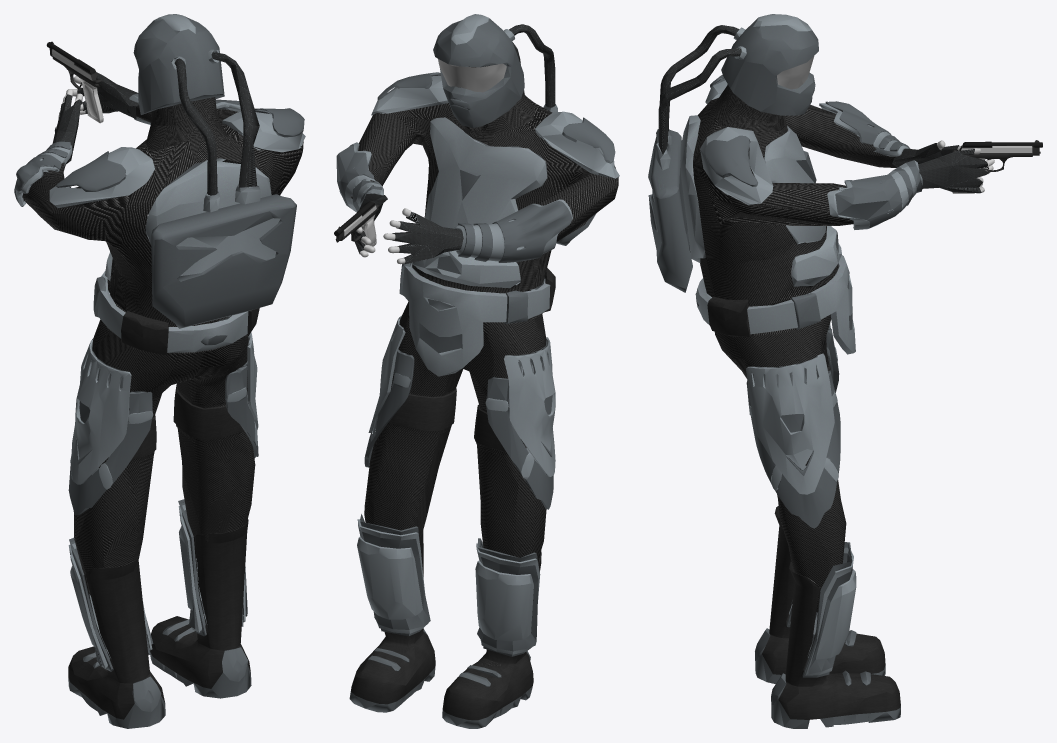
Rendered from AndarPistola.0017.obj.
3 views of the same model, side by side, from view 1: azimuth 30°, elevation 25°; view 2: azimuth 150°, elevation 25°; view 3: azimuth 270°, elevation 25° (orthographic). The views are drawn at different scales.
Visible parts, largest first — view 1: personajeskefix:personaje:extrudedSurface2 polySurface152, personajeskefix:personaje:bota1 polySurface152, personajeskefix:personaje:PANTALON polySurface152, personajeskefix:personaje:CAMISETABUENA polySurface152, personajeskefix:personaje:pPipe4 polySurface152, personajeskefix:personaje:pCube4 polySurface152, personajeskefix:personaje:cosoarmdaurapierna1 polySurface152, personajeskefix:personaje:cinturon polySurface152, personajeskefix:personaje:polySurface6 polySurface152, personajeskefix:personaje:armadbota1 polySurface152, personajeskefix:personaje:HOMBRO2 polySurface152, pistola:Cylinder001 polySurface152 (+6 smaller); view 2: personajeskefix:personaje:pPipe4 polySurface152, personajeskefix:personaje:PANTALON polySurface152, personajeskefix:personaje:CAMISETABUENA polySurface152, personajeskefix:personaje:bota1 polySurface152, personajeskefix:personaje:armadbota1 polySurface152, personajeskefix:personaje:cinturon polySurface152, personajeskefix:personaje:pCube4 polySurface152, personajeskefix:personaje:extrudedSurface2 polySurface152, personajeskefix:personaje:cosoarmdaurapierna1 polySurface152, personajeskefix:personaje:polySurface2 polySurface152, personajeskefix:personaje:polySurface6 polySurface152, personajeskefix:personaje:cosoarmadurapierna2 polySurface152 (+8 smaller); view 3: personajeskefix:personaje:CAMISETABUENA polySurface152, personajeskefix:personaje:pPipe4 polySurface152, personajeskefix:personaje:bota1 polySurface152, personajeskefix:personaje:extrudedSurface2 polySurface152, personajeskefix:personaje:pCube4 polySurface152, personajeskefix:personaje:PANTALON polySurface152, personajeskefix:personaje:cinturon polySurface152, personajeskefix:personaje:cosoarmadurapierna2 polySurface152, personajeskefix:personaje:armadbota1 polySurface152, personajeskefix:personaje:hombro1 polySurface152, pistola:Cylinder001 polySurface152, personajeskefix:personaje:polySurface2 polySurface152 (+4 smaller).
Part boxes in pixels (x1,y1,x2,y2): personajeskefix:personaje:extrudedSurface2 polySurface152: [133, 14, 296, 328]; personajeskefix:personaje:bota1 polySurface152: [68, 519, 251, 728]; personajeskefix:personaje:PANTALON polySurface152: [73, 294, 255, 595]; personajeskefix:personaje:CAMISETABUENA polySurface152: [22, 97, 303, 353]; personajeskefix:personaje:pPipe4 polySurface152: [43, 72, 305, 279]; personajeskefix:personaje:pCube4 polySurface152: [68, 316, 258, 671]; personajeskefix:personaje:cosoarmdaurapierna1 polySurface152: [70, 338, 153, 489]; personajeskefix:personaje:cinturon polySurface152: [93, 270, 259, 355]; personajeskefix:personaje:polySurface6 polySurface152: [131, 385, 244, 460]; personajeskefix:personaje:armadbota1 polySurface152: [68, 504, 245, 668]; personajeskefix:personaje:HOMBRO2 polySurface152: [56, 151, 125, 191]; pistola:Cylinder001 polySurface152: [46, 41, 103, 123]; personajeskefix:personaje:pPipe4 polySurface152: [336, 75, 619, 288]; personajeskefix:personaje:PANTALON polySurface152: [364, 278, 546, 559]; personajeskefix:personaje:CAMISETABUENA polySurface152: [351, 66, 618, 321]; personajeskefix:personaje:bota1 polySurface152: [349, 531, 541, 728]; personajeskefix:personaje:armadbota1 polySurface152: [357, 519, 540, 654]; personajeskefix:personaje:cinturon polySurface152: [399, 263, 555, 376]; personajeskefix:personaje:pCube4 polySurface152: [358, 315, 553, 656]; personajeskefix:personaje:extrudedSurface2 polySurface152: [433, 14, 596, 245]; personajeskefix:personaje:cosoarmdaurapierna1 polySurface152: [485, 337, 555, 479]; personajeskefix:personaje:polySurface2 polySurface152: [458, 201, 571, 262]; personajeskefix:personaje:polySurface6 polySurface152: [388, 388, 506, 452]; personajeskefix:personaje:cosoarmadurapierna2 polySurface152: [364, 349, 414, 467]; personajeskefix:personaje:CAMISETABUENA polySurface152: [693, 84, 901, 335]; personajeskefix:personaje:pPipe4 polySurface152: [680, 78, 989, 286]; personajeskefix:personaje:bota1 polySurface152: [755, 506, 900, 728]; personajeskefix:personaje:extrudedSurface2 polySurface152: [648, 14, 818, 292]; personajeskefix:personaje:pCube4 polySurface152: [746, 326, 852, 677]; personajeskefix:personaje:PANTALON polySurface152: [714, 277, 846, 612]; personajeskefix:personaje:cinturon polySurface152: [695, 255, 855, 354]; personajeskefix:personaje:cosoarmadurapierna2 polySurface152: [746, 370, 840, 528]; personajeskefix:personaje:armadbota1 polySurface152: [789, 547, 856, 675]; personajeskefix:personaje:hombro1 polySurface152: [705, 135, 757, 186]; pistola:Cylinder001 polySurface152: [952, 140, 1042, 193]; personajeskefix:personaje:polySurface2 polySurface152: [825, 101, 910, 151].
Size of the model in its own units: 3.67 by 9.58 by 5.05.
